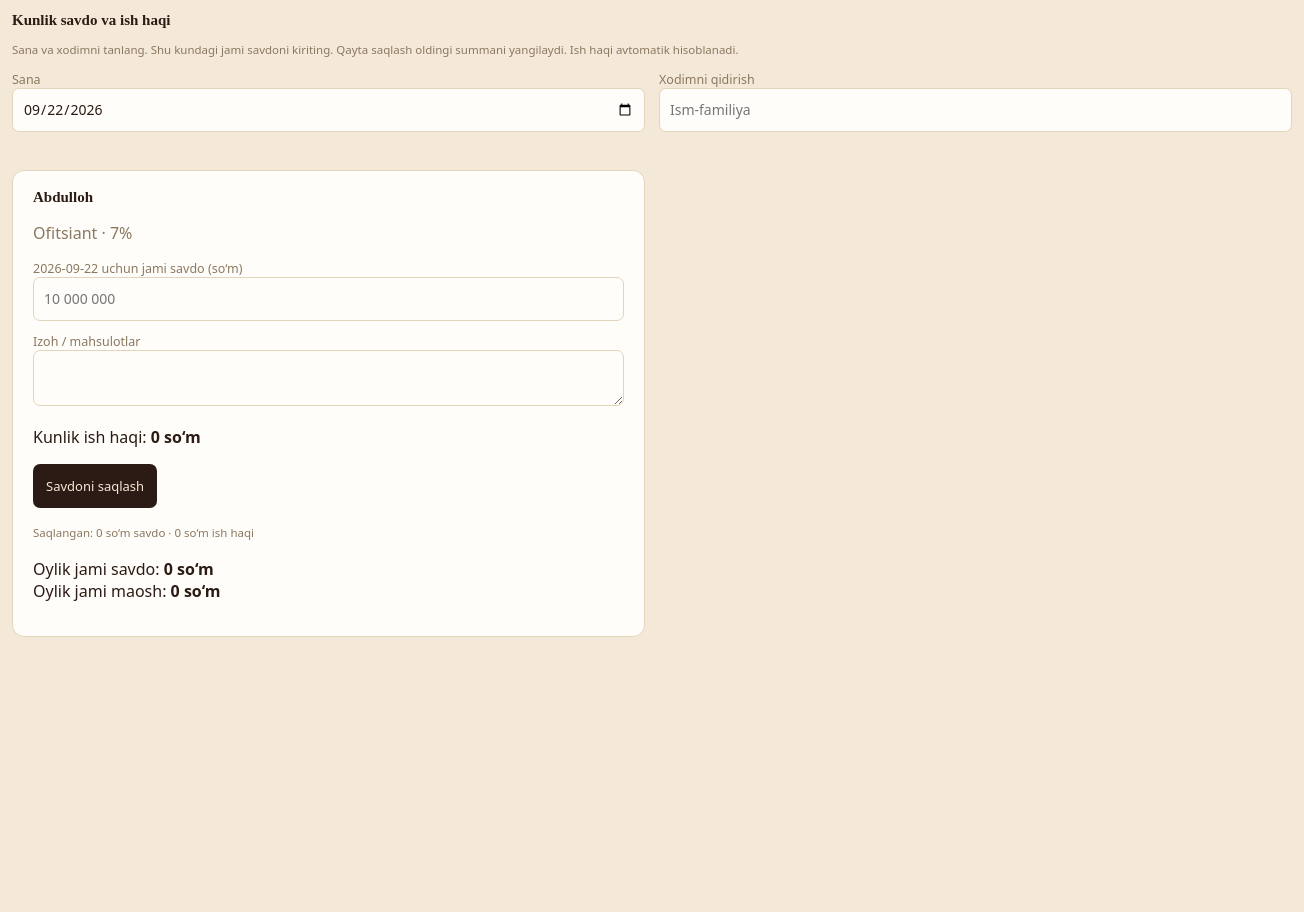
Test: displays save rejection without falsely confirming success
The image size is (1304, 912).
In the field with placeholder "10 000 000": (328, 299) [33,277,624,321], type "100"
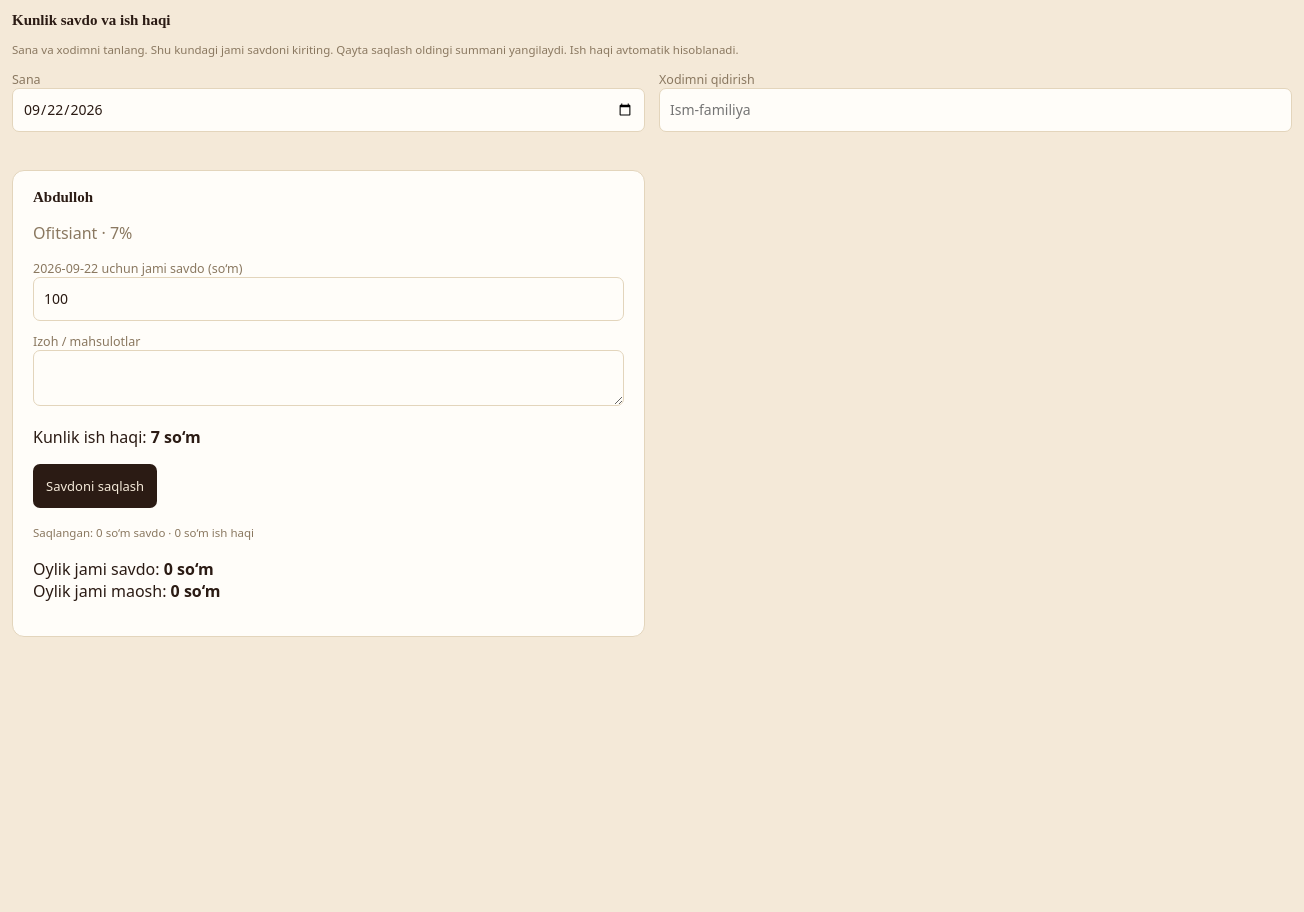
Click the button "Savdoni saqlash": (95, 486) [33,464,157,508]
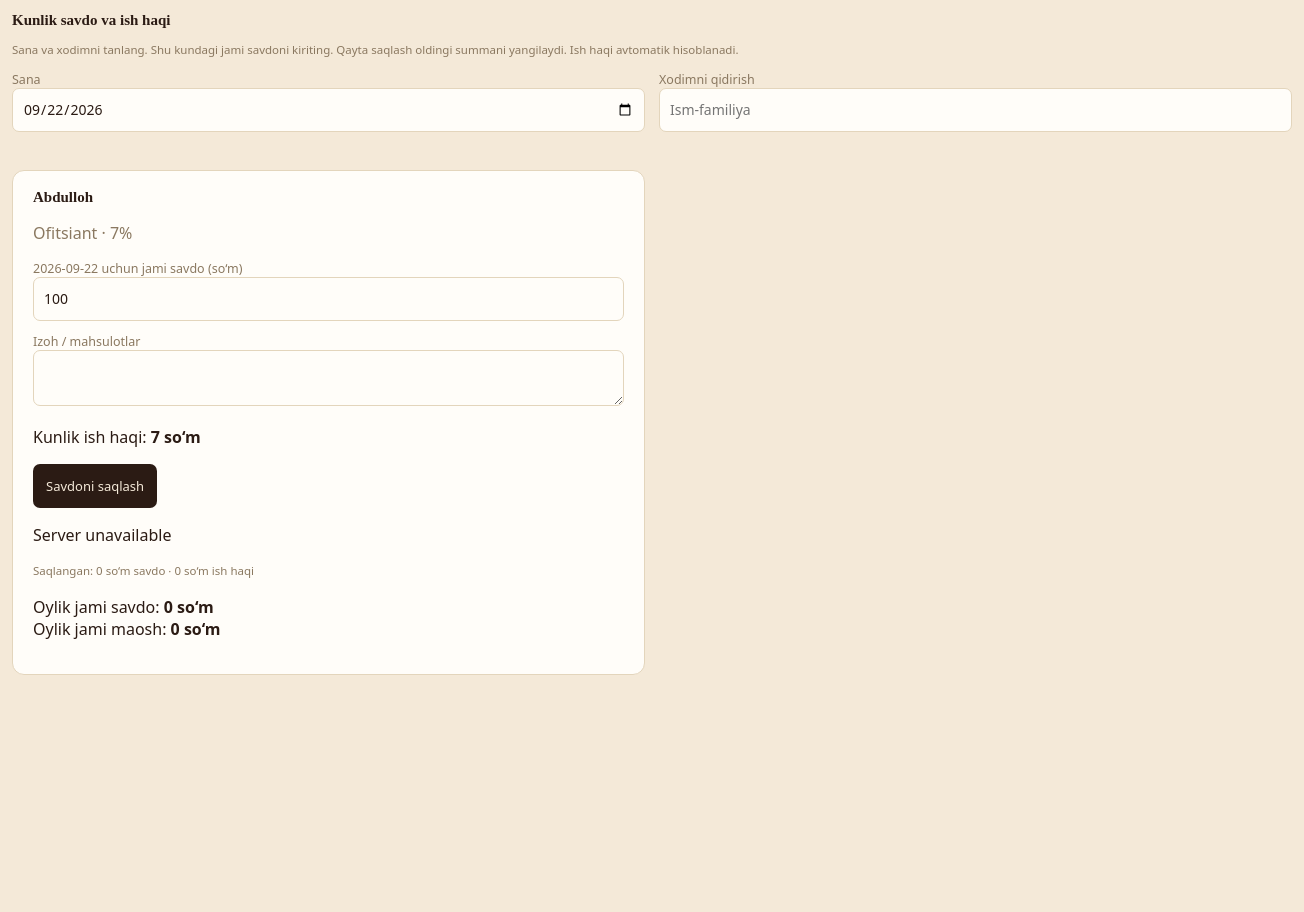
Expected: the text "Server unavailable" is shown, [33,524,171,546]
